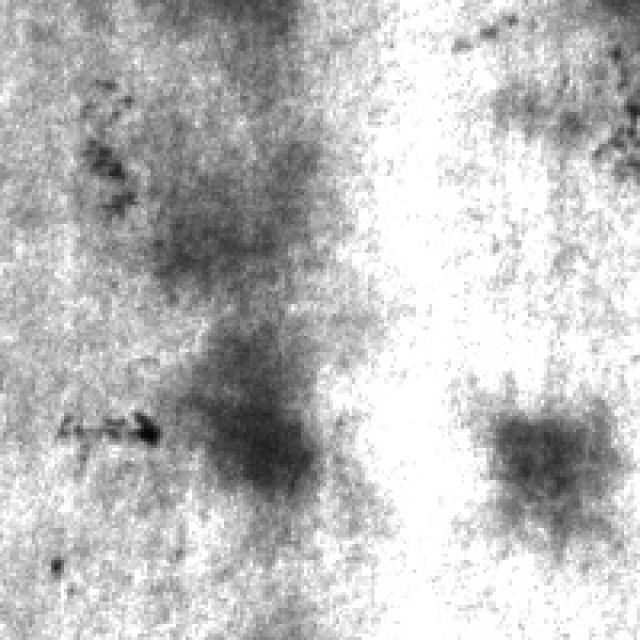patches: (147, 141, 317, 301), (182, 320, 324, 502), (461, 391, 608, 532)
